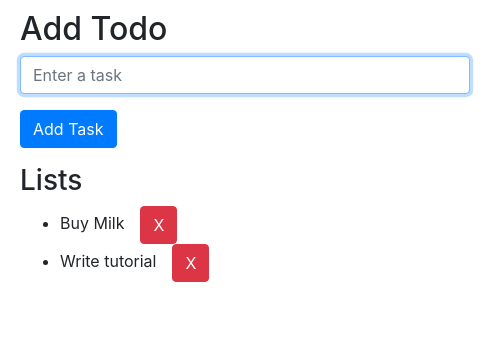
Test case: Form › add new todo
The image size is (491, 337).
Type "Learn about Cypress" into the field with placeholder "Enter a task". click: (245, 75)
box: 20,56 -> 470,94
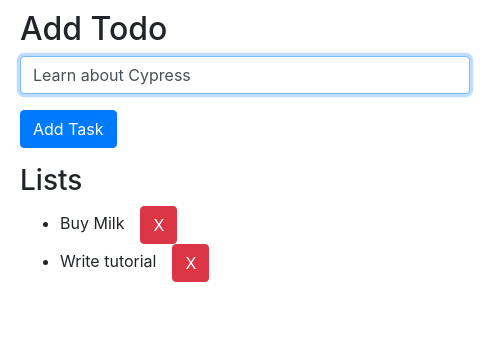
Press Enter in the field, box 20,56 -> 470,94
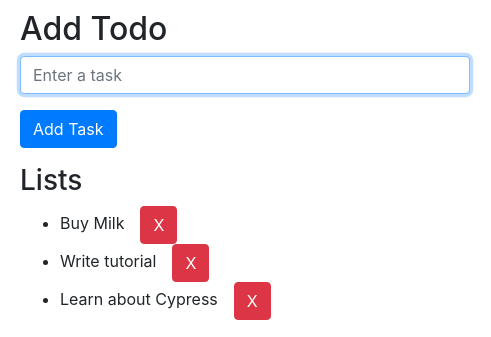
Expected: the number of list items is 3, 60,206 -> 177,244; 60,244 -> 209,282; 60,282 -> 271,320
